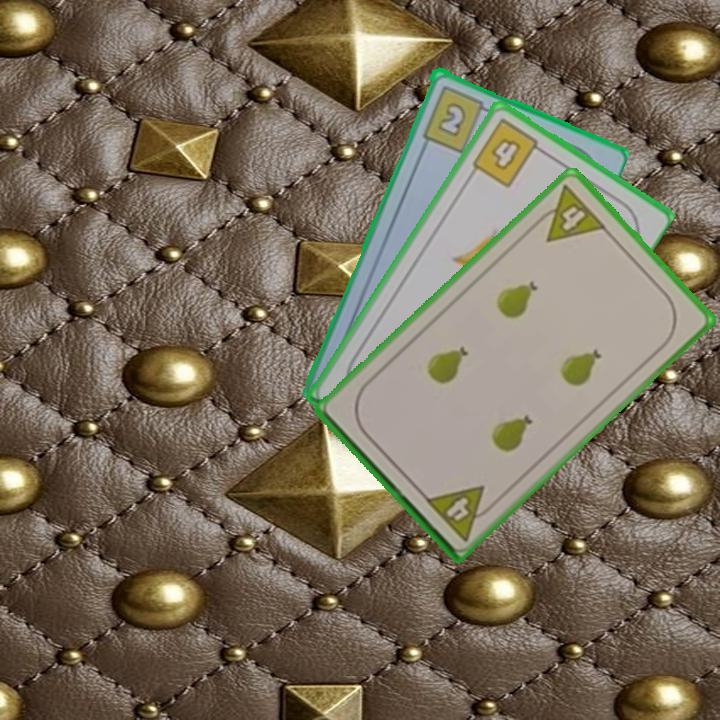2b: (419, 81, 494, 155)
4b: (468, 114, 548, 191)
4p: (529, 180, 609, 245), (421, 481, 500, 544)
